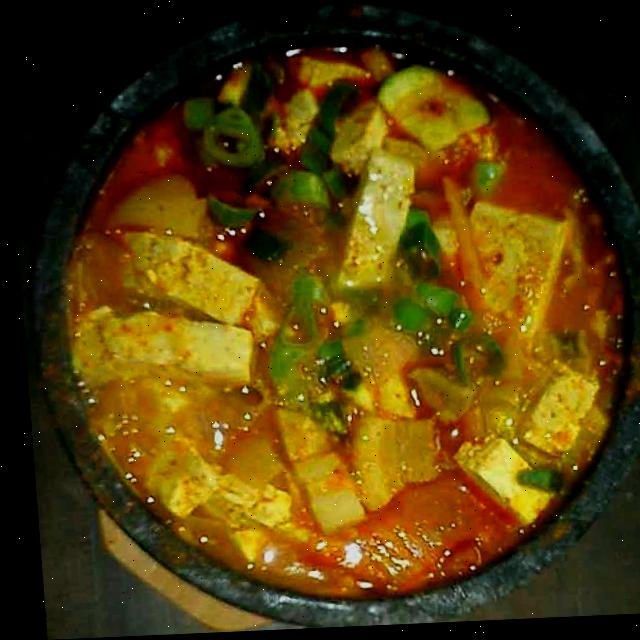汤锅炖物: (31, 6, 640, 618)
